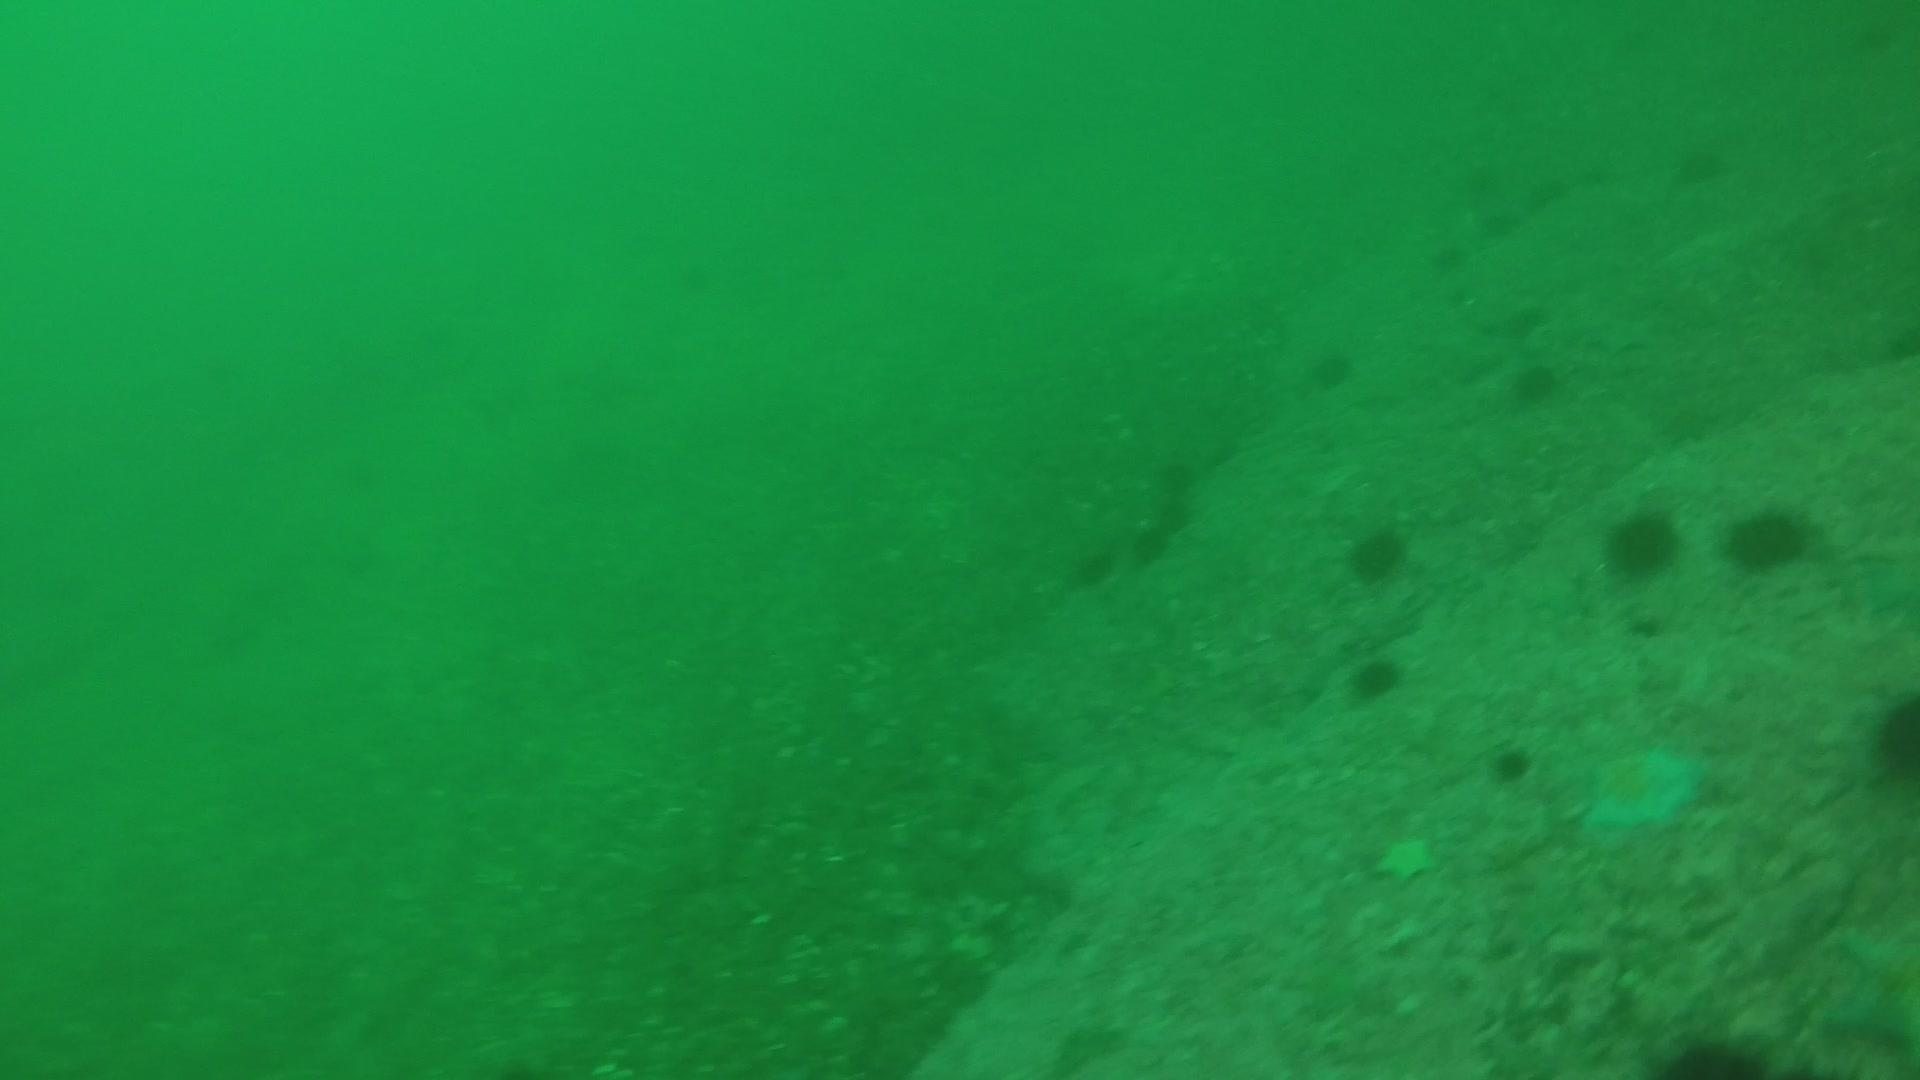echinus: (1721, 498, 1815, 576), (1598, 502, 1684, 583), (1656, 1027, 1774, 1077), (1865, 684, 1920, 789), (1342, 518, 1414, 585), (1344, 649, 1407, 705), (1503, 355, 1567, 411), (1669, 135, 1733, 190), (1064, 541, 1120, 592), (1304, 342, 1358, 393), (1485, 738, 1538, 789), (1422, 239, 1472, 282), (1466, 204, 1516, 247), (1522, 169, 1572, 211), (1575, 161, 1625, 203), (1149, 493, 1197, 534), (1145, 454, 1187, 493), (1127, 527, 1168, 559)
starfish: (1816, 915, 1917, 1069), (1572, 735, 1708, 839), (1847, 545, 1919, 624), (1370, 828, 1441, 887)
